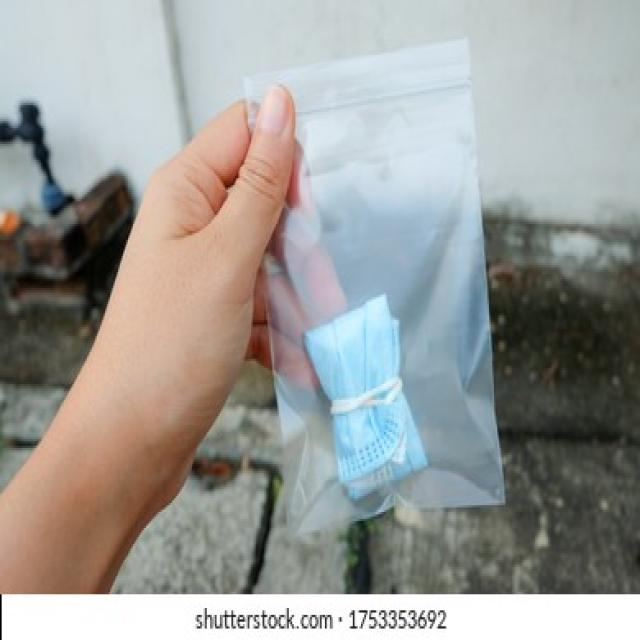non-organic waste: (299, 292, 430, 500)
